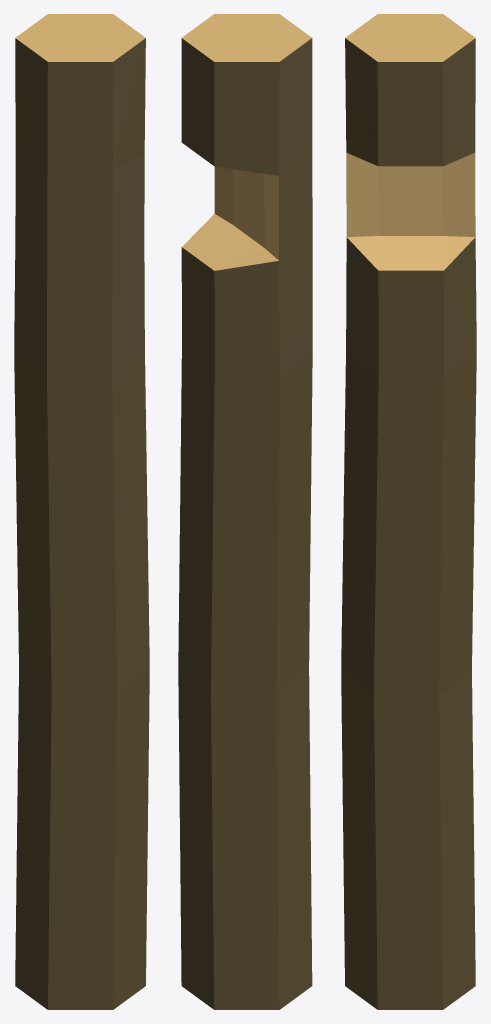
The model's file is WoodPilar2.fbx.
3 views of the same model, side by side, from view 1: azimuth 90°, elevation 25°; view 2: azimuth 210°, elevation 25°; view 3: azimuth 270°, elevation 25° (orthographic).
Parts seen in each view (by area): view 1: Цилиндр; view 2: Цилиндр; view 3: Цилиндр.
Part boxes in pixels (x1=…): Цилиндр: x1=14, y1=14, x2=149, y2=1009; Цилиндр: x1=178, y1=14, x2=312, y2=1009; Цилиндр: x1=341, y1=14, x2=476, y2=1009.
Bounding box in the file's own units: 21.93 × 200 × 25.93.
